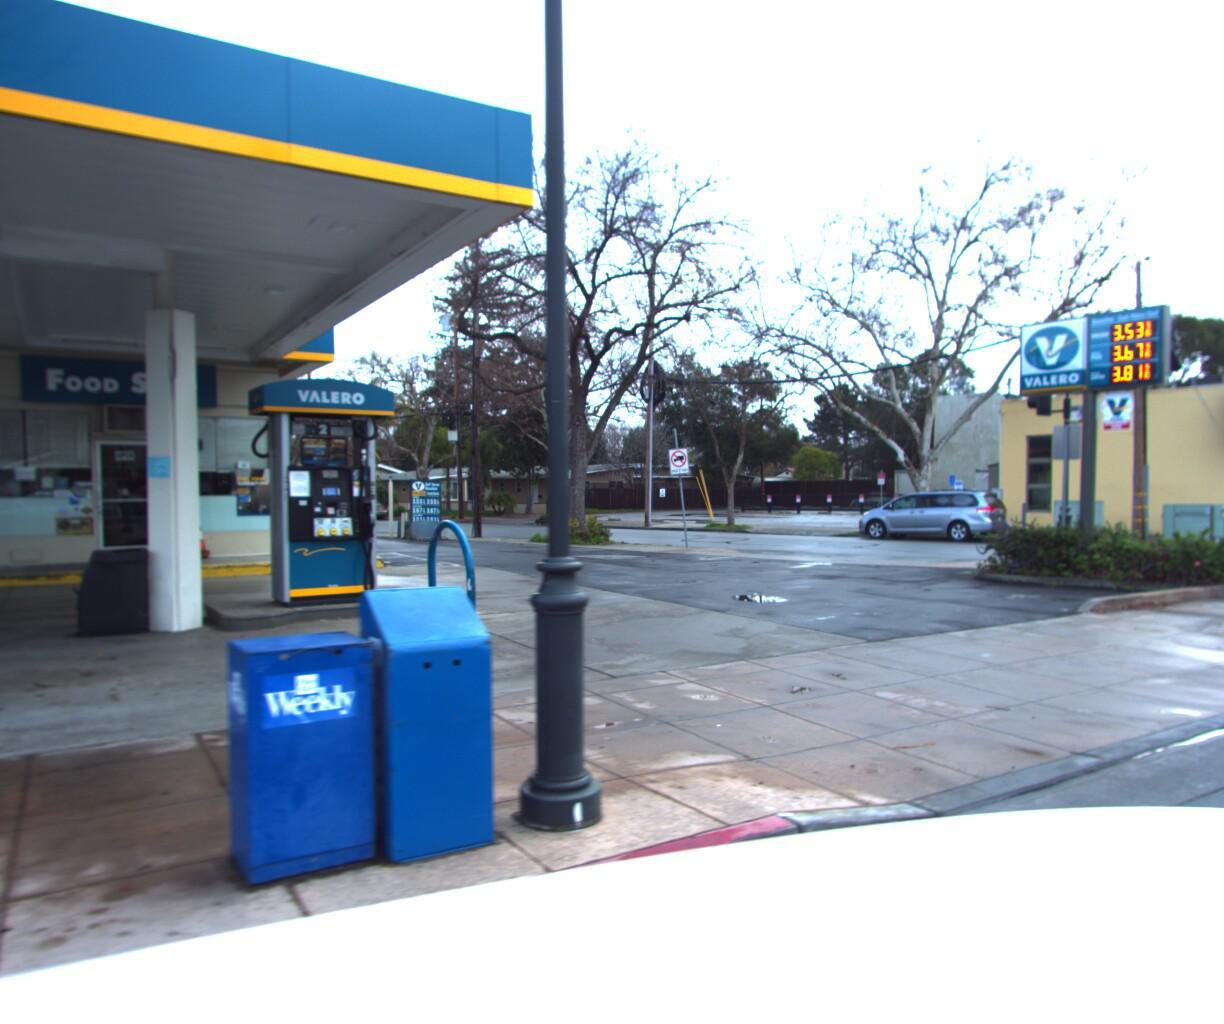car: (851, 483, 1016, 541)
